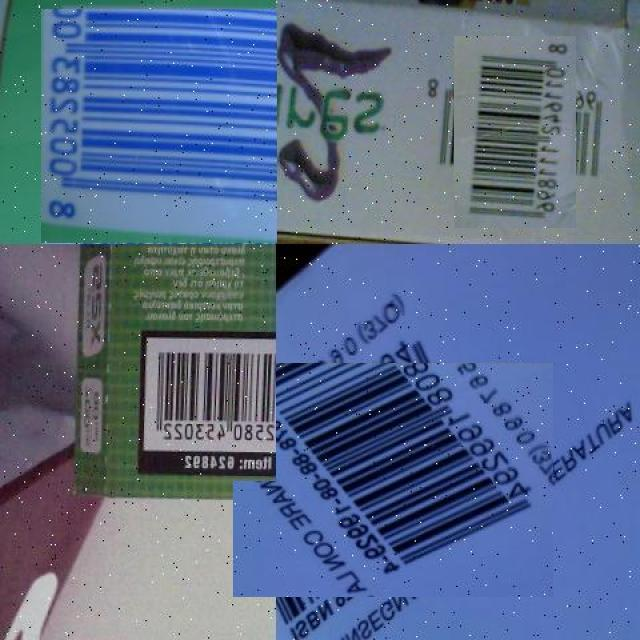Barcode: (254, 341, 532, 618), (41, 8, 276, 244), (437, 53, 594, 210), (136, 332, 276, 481)
